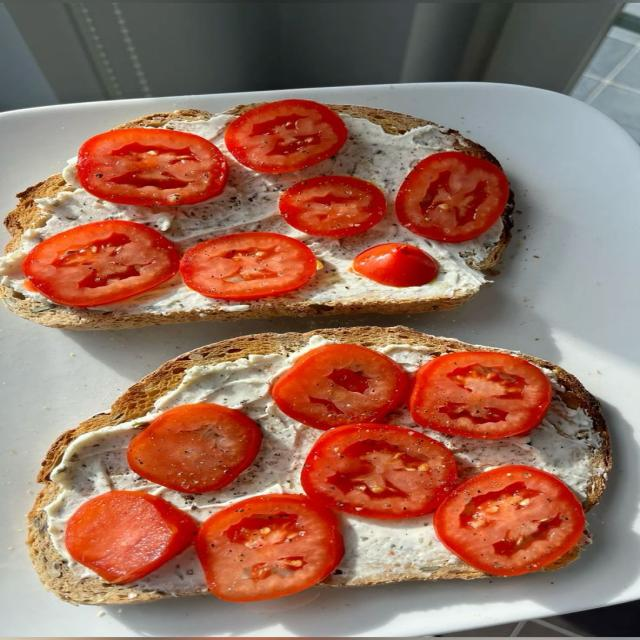sliced_bread: (27, 326, 477, 605), (0, 284, 477, 330), (524, 354, 611, 472), (5, 174, 62, 248), (461, 197, 513, 274), (329, 104, 433, 139), (322, 569, 423, 588), (120, 110, 207, 128), (453, 130, 498, 164)
sliced_tomato: (434, 466, 584, 576), (196, 494, 343, 601), (301, 424, 456, 519), (23, 221, 179, 307), (410, 352, 552, 438), (65, 491, 197, 583), (127, 403, 261, 493), (76, 128, 227, 206), (272, 344, 409, 429), (396, 152, 509, 242), (180, 232, 317, 300), (225, 100, 347, 173), (280, 176, 386, 237), (353, 243, 439, 286)
